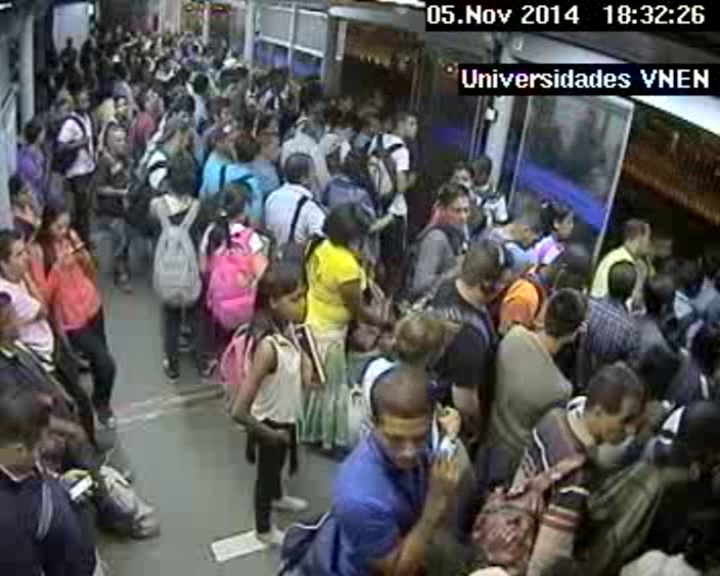person: (358, 366, 451, 467), (579, 361, 649, 445), (1, 391, 61, 471), (255, 258, 313, 325), (457, 238, 514, 304), (390, 308, 444, 363), (538, 292, 588, 347), (677, 397, 720, 454), (641, 342, 687, 390), (555, 243, 596, 294), (325, 202, 367, 246), (438, 185, 477, 232), (505, 205, 545, 250), (642, 273, 682, 317), (1, 292, 34, 343), (1, 228, 37, 274), (219, 178, 257, 221), (683, 320, 720, 364), (38, 203, 75, 246), (280, 152, 320, 190), (160, 117, 195, 157), (544, 200, 580, 237), (605, 259, 639, 296), (621, 216, 654, 254), (6, 174, 38, 209), (163, 162, 194, 197), (676, 260, 707, 293), (294, 80, 326, 111), (393, 108, 423, 140), (335, 155, 366, 184), (331, 113, 361, 142), (101, 121, 129, 152), (449, 160, 477, 191), (299, 113, 326, 142), (232, 133, 258, 162), (469, 157, 495, 186), (173, 94, 198, 122), (258, 132, 283, 158), (208, 100, 232, 126), (650, 232, 672, 260), (71, 86, 95, 111), (209, 128, 233, 153), (254, 114, 278, 139), (24, 118, 47, 144), (217, 76, 239, 100), (371, 87, 393, 111), (361, 112, 383, 136), (250, 71, 271, 92), (266, 69, 286, 90), (52, 99, 71, 118), (191, 73, 210, 92), (338, 93, 354, 111), (113, 96, 129, 113), (135, 96, 150, 113), (110, 22, 125, 36), (176, 68, 190, 83), (49, 59, 63, 73), (127, 45, 140, 60), (192, 55, 205, 70), (112, 67, 124, 79), (102, 85, 113, 98), (218, 36, 229, 48), (84, 52, 95, 63), (101, 31, 111, 42), (203, 46, 213, 57), (150, 44, 160, 55), (125, 27, 135, 36), (229, 49, 238, 59), (134, 53, 143, 63), (156, 61, 164, 72), (65, 38, 74, 47), (139, 32, 148, 41), (178, 41, 187, 50), (145, 79, 154, 88), (106, 49, 115, 58), (83, 37, 91, 47), (164, 31, 172, 41), (191, 45, 199, 54), (154, 36, 162, 44)
